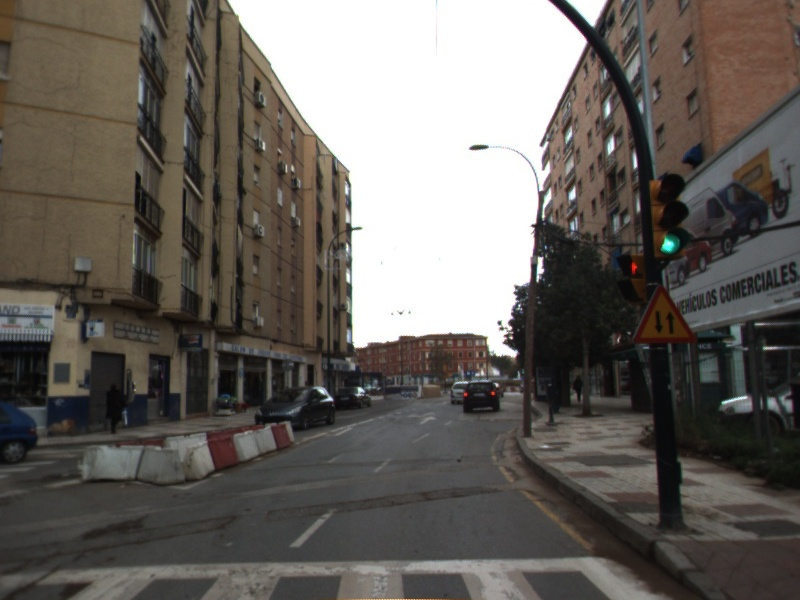STRAIGHT: (417, 414, 439, 426)
STRAIGHT_LEFT: (405, 409, 438, 420)
